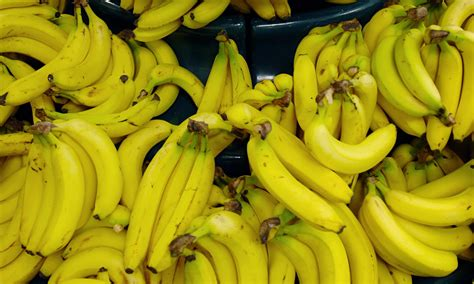banana: (245, 138, 346, 234), (145, 140, 216, 273), (122, 141, 186, 275), (360, 196, 462, 276), (36, 140, 88, 259), (305, 117, 400, 174), (49, 18, 114, 93), (395, 28, 448, 116), (142, 61, 207, 111)
